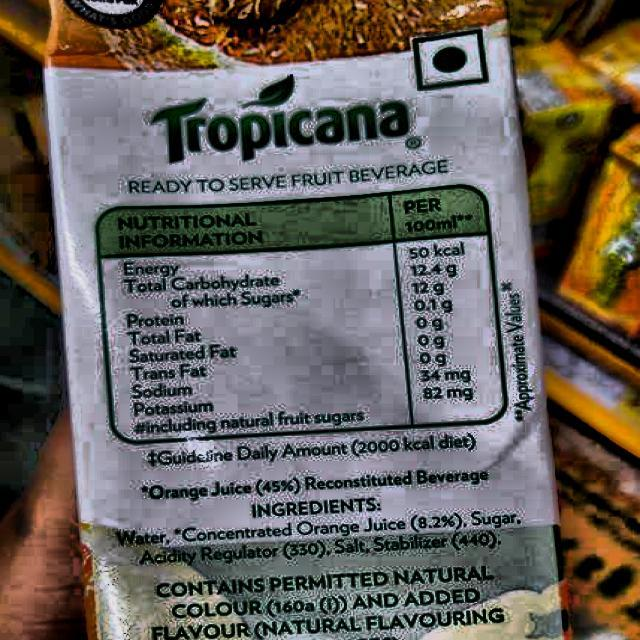cardboard: (39, 0, 573, 640)
